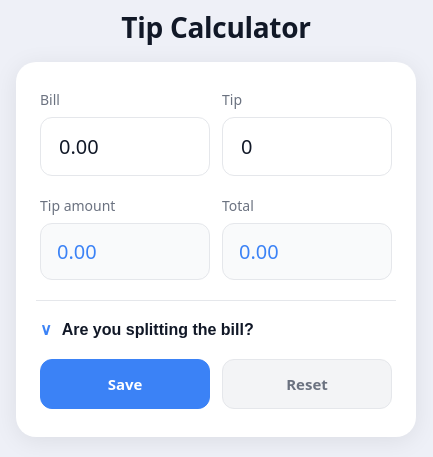
Test: App – Bill input › rejects value above 100000
The image size is (433, 457).
Replace the text in the field labelled "Bill" with "100001". click: (125, 146)
box: [57, 132, 193, 160]
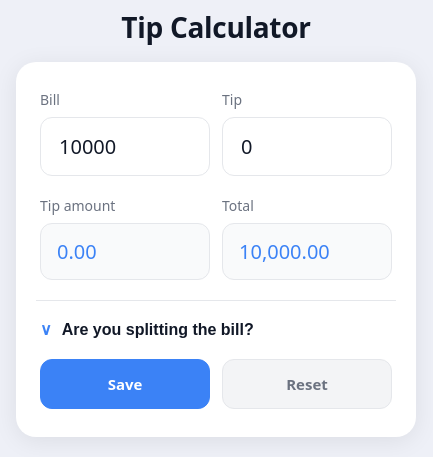
Now the field labelled "Bill" holds "10000", box [57, 132, 193, 160]
